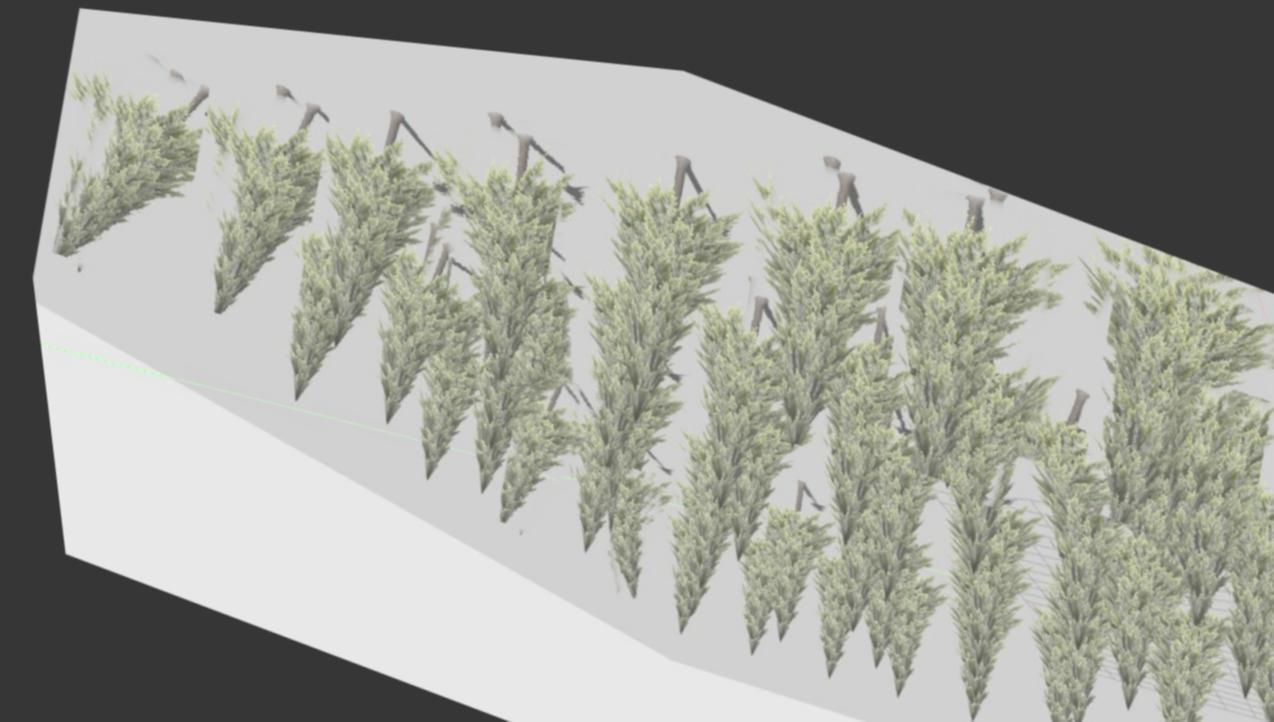tree_gazebo: (1094, 228, 1273, 499), (893, 170, 1045, 457), (754, 148, 895, 427), (443, 116, 561, 369), (45, 75, 203, 253), (204, 92, 321, 308), (1162, 372, 1264, 599), (486, 368, 568, 510), (596, 454, 642, 583)
